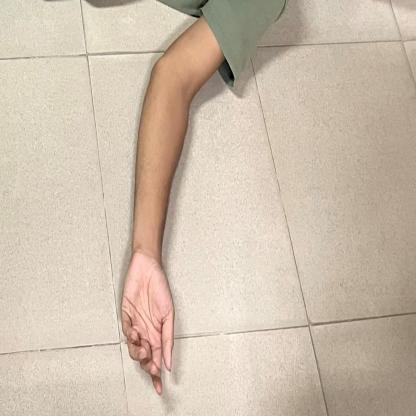hand: (112, 0, 225, 412)
